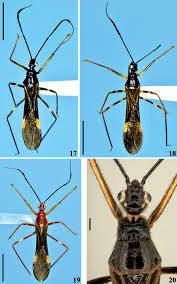Helopeltis-insect: (105, 175, 165, 281), (16, 50, 53, 150), (122, 57, 146, 152), (32, 195, 55, 279)
